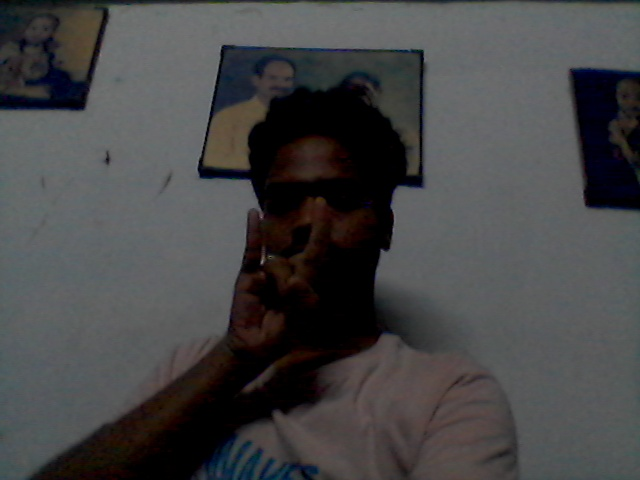I Love You: (230, 191, 332, 380)
